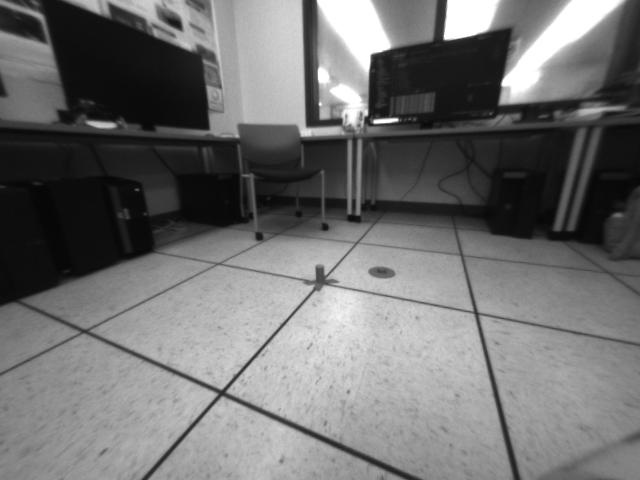X: (303, 264, 341, 292)
